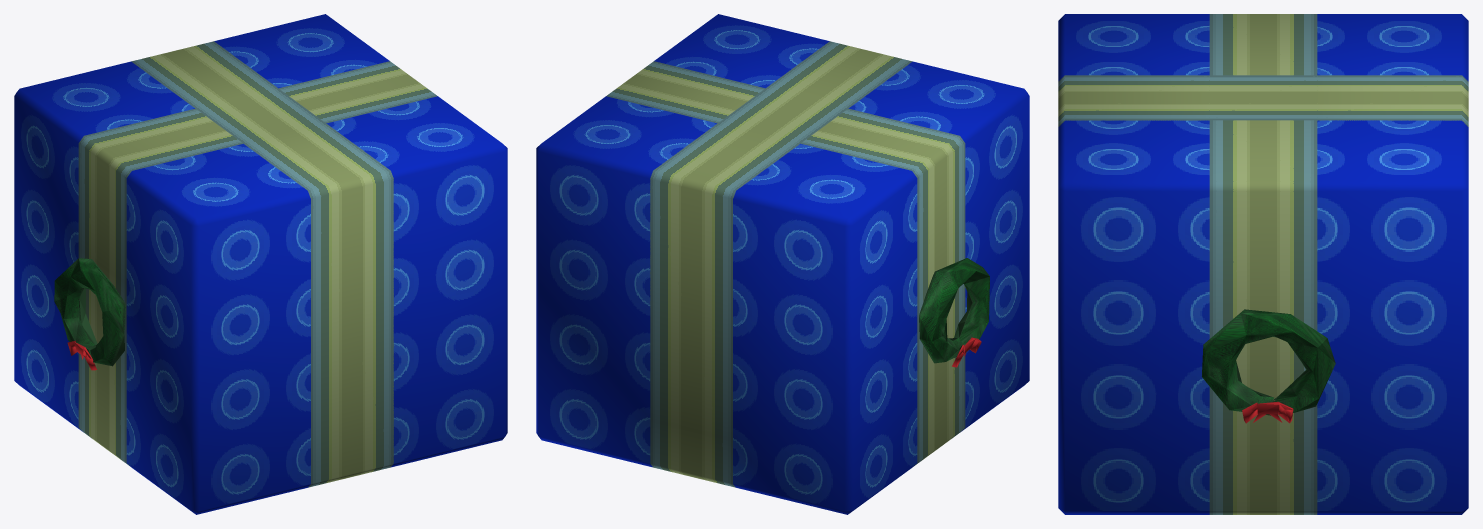
The model's file is crate-steel-lod0.glb.
3 views of the same model, side by side, from view 1: azimuth 30°, elevation 25°; view 2: azimuth 150°, elevation 25°; view 3: azimuth 270°, elevation 25° (orthographic). The views are drawn at different scales.
Parts seen in each view (by area): view 1: polygon1.003, polygon0.003, blue present handle; view 2: polygon1.003, polygon0.003, blue present handle; view 3: polygon1.003, polygon0.003, blue present handle.001.
Boxes of the visible parts, x1,y1,x2,y2 form: polygon1.003: (14,14,507,514); polygon0.003: (78,41,437,487); blue present handle: (54,258,125,370); polygon1.003: (536,14,1029,514); polygon0.003: (606,41,965,487); blue present handle: (919,258,989,367); polygon1.003: (1058,14,1468,514); polygon0.003: (1058,14,1468,514); blue present handle.001: (1202,309,1335,423).
Size of the model in its own units: 2.28 by 1.72 by 1.92.
Materials: 6 (6 with a texture image).
